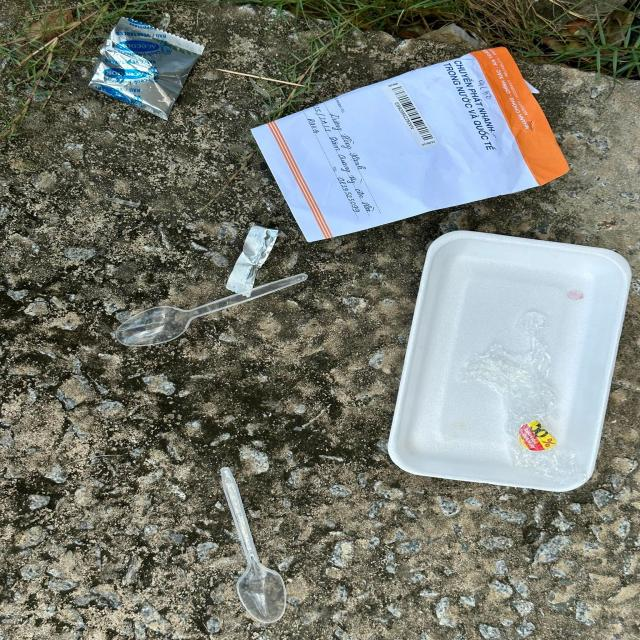foam box: (386, 231, 632, 492)
packet: (90, 15, 206, 122)
paper: (251, 48, 569, 243)
plastic utensil: (116, 273, 307, 347), (219, 468, 287, 623)
